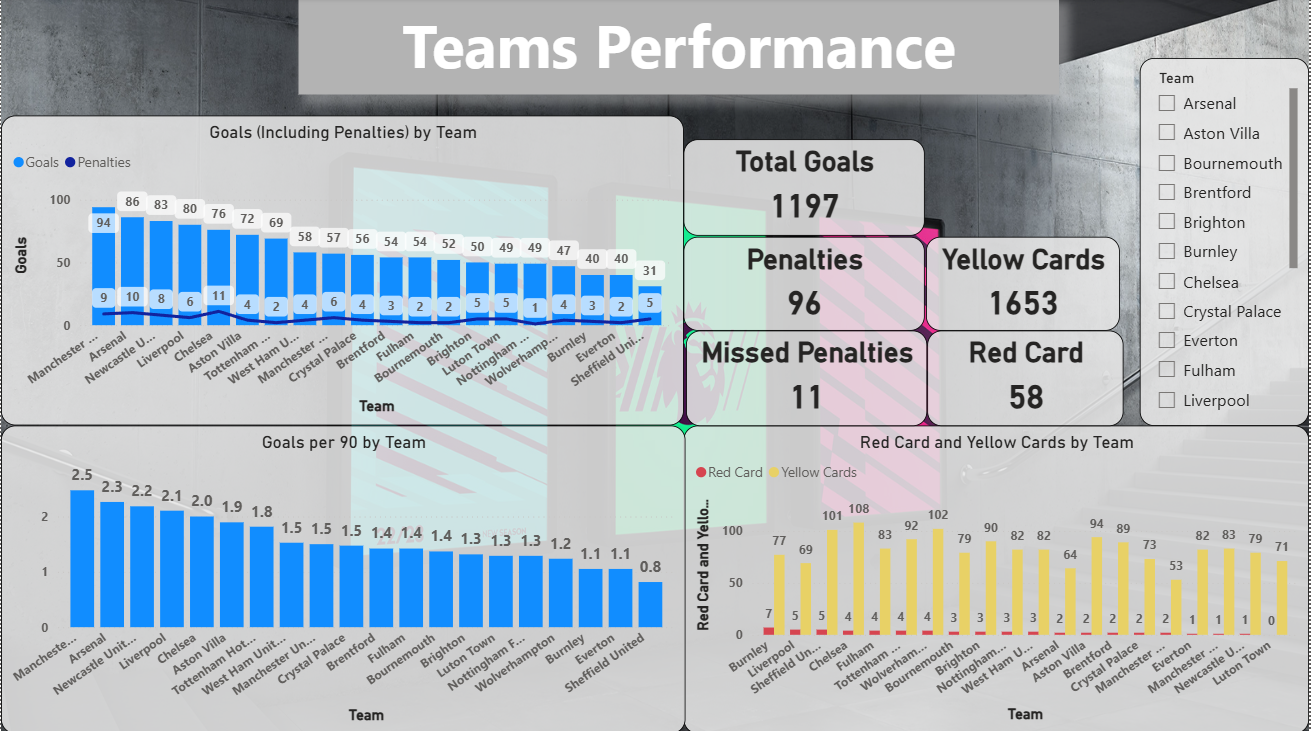

The dashboard page shown, as its layout file describes it:
{"tool":"powerbi","page":{"name":"Page 3","canvas":[1280,720],"ordinal":1},"visuals":[{"type":"image","box":[0,0,1280.3,720.4],"z":0},{"type":"clusteredColumnChart","fields":{"Category":["premier-player-23-24.Team"],"Y":["ALL_MEASURES.Red Card","ALL_MEASURES.Yellow Cards"]},"box":[668.3,418.5,612,301.9],"z":1000},{"type":"lineStackedColumnComboChart","title":"Goals (Including Penalties) by Team","fields":{"Category":["premier-player-23-24.Team"],"Y":["ALL_MEASURES.Goals"],"Y2":["ALL_MEASURES.Penalties"]},"box":[0,115.3,668.3,303.3],"z":2000},{"type":"card","title":"Total Goals","fields":{"Values":["ALL_MEASURES.Goals"]},"box":[668.3,138.6,236,94.7],"z":3000},{"type":"card","title":"Penalties","fields":{"Values":["ALL_MEASURES.Penalties"]},"box":[668.3,233.3,236,91.9],"z":4000},{"type":"card","title":"Missed Penalties","fields":{"Values":["ALL_MEASURES.Missed Penalties"]},"box":[669.6,325.2,236,93.3],"z":5000},{"type":"card","title":"Yellow Cards","fields":{"Values":["ALL_MEASURES.Yellow Cards"]},"box":[904.3,233.3,189.4,91.9],"z":6000},{"type":"card","title":"Red Card","fields":{"Values":["ALL_MEASURES.Red Card"]},"box":[905.7,325.2,192.1,93.3],"z":7000},{"type":"clusteredColumnChart","title":"Goals per 90 by Team","fields":{"Category":["premier-player-23-24.Team"],"Y":["ALL_MEASURES.gls 90min"]},"box":[0,418.5,669.6,301.9],"z":8000},{"type":"slicer","fields":{"Values":["premier-player-23-24.Team"]},"box":[1114.4,58.4,165.6,360.3],"z":9000},{"type":"textbox","box":[290.8,0,744.3,94.6],"z":10000}]}

Visuals, with their boxes in screenshot pixels (x1, y1, x2, y2), scaled from the page's 1280x720 canvas onto the 1311x731 screenshot:
image: <box>0,0,1310,730</box>
clusteredColumnChart - premier-player-23-24.Team x ALL_MEASURES.Red Card: <box>684,425,1310,730</box>
"Goals (Including Penalties) by Team" lineStackedColumnComboChart: <box>0,117,684,425</box>
"Total Goals" card: <box>684,141,926,237</box>
"Penalties" card: <box>684,237,926,330</box>
"Missed Penalties" card: <box>686,330,928,425</box>
"Yellow Cards" card: <box>926,237,1120,330</box>
"Red Card" card: <box>928,330,1124,425</box>
"Goals per 90 by Team" clusteredColumnChart: <box>0,425,686,730</box>
slicer - premier-player-23-24.Team: <box>1141,59,1310,425</box>
textbox: <box>298,0,1060,96</box>
